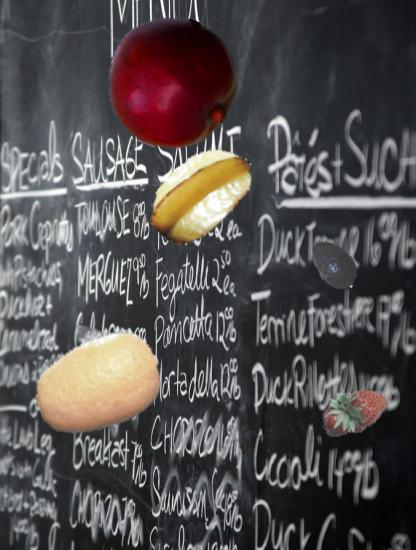Avocado: (306, 236, 364, 294)
Carambula: (143, 136, 258, 251)
Kumquats: (35, 321, 163, 449)
Mango: (105, 16, 239, 150)
Strawberry: (318, 375, 389, 446)
